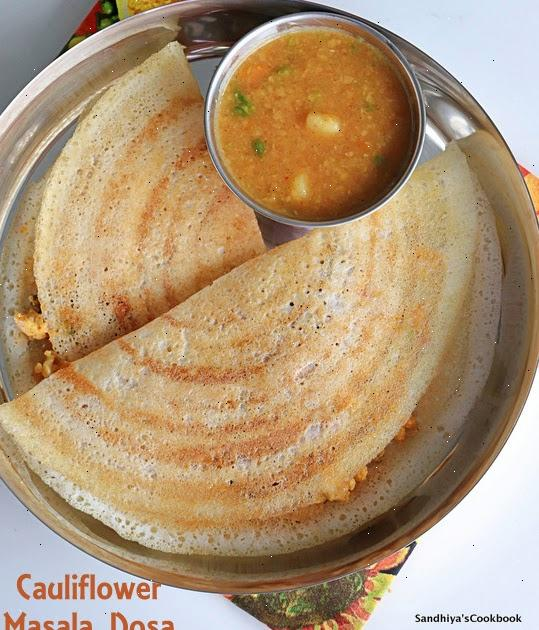dosa: (42, 263, 458, 515), (84, 84, 229, 291)
sambhar: (257, 17, 404, 211)
